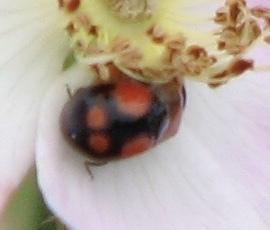ladybug: (60, 60, 189, 183)
